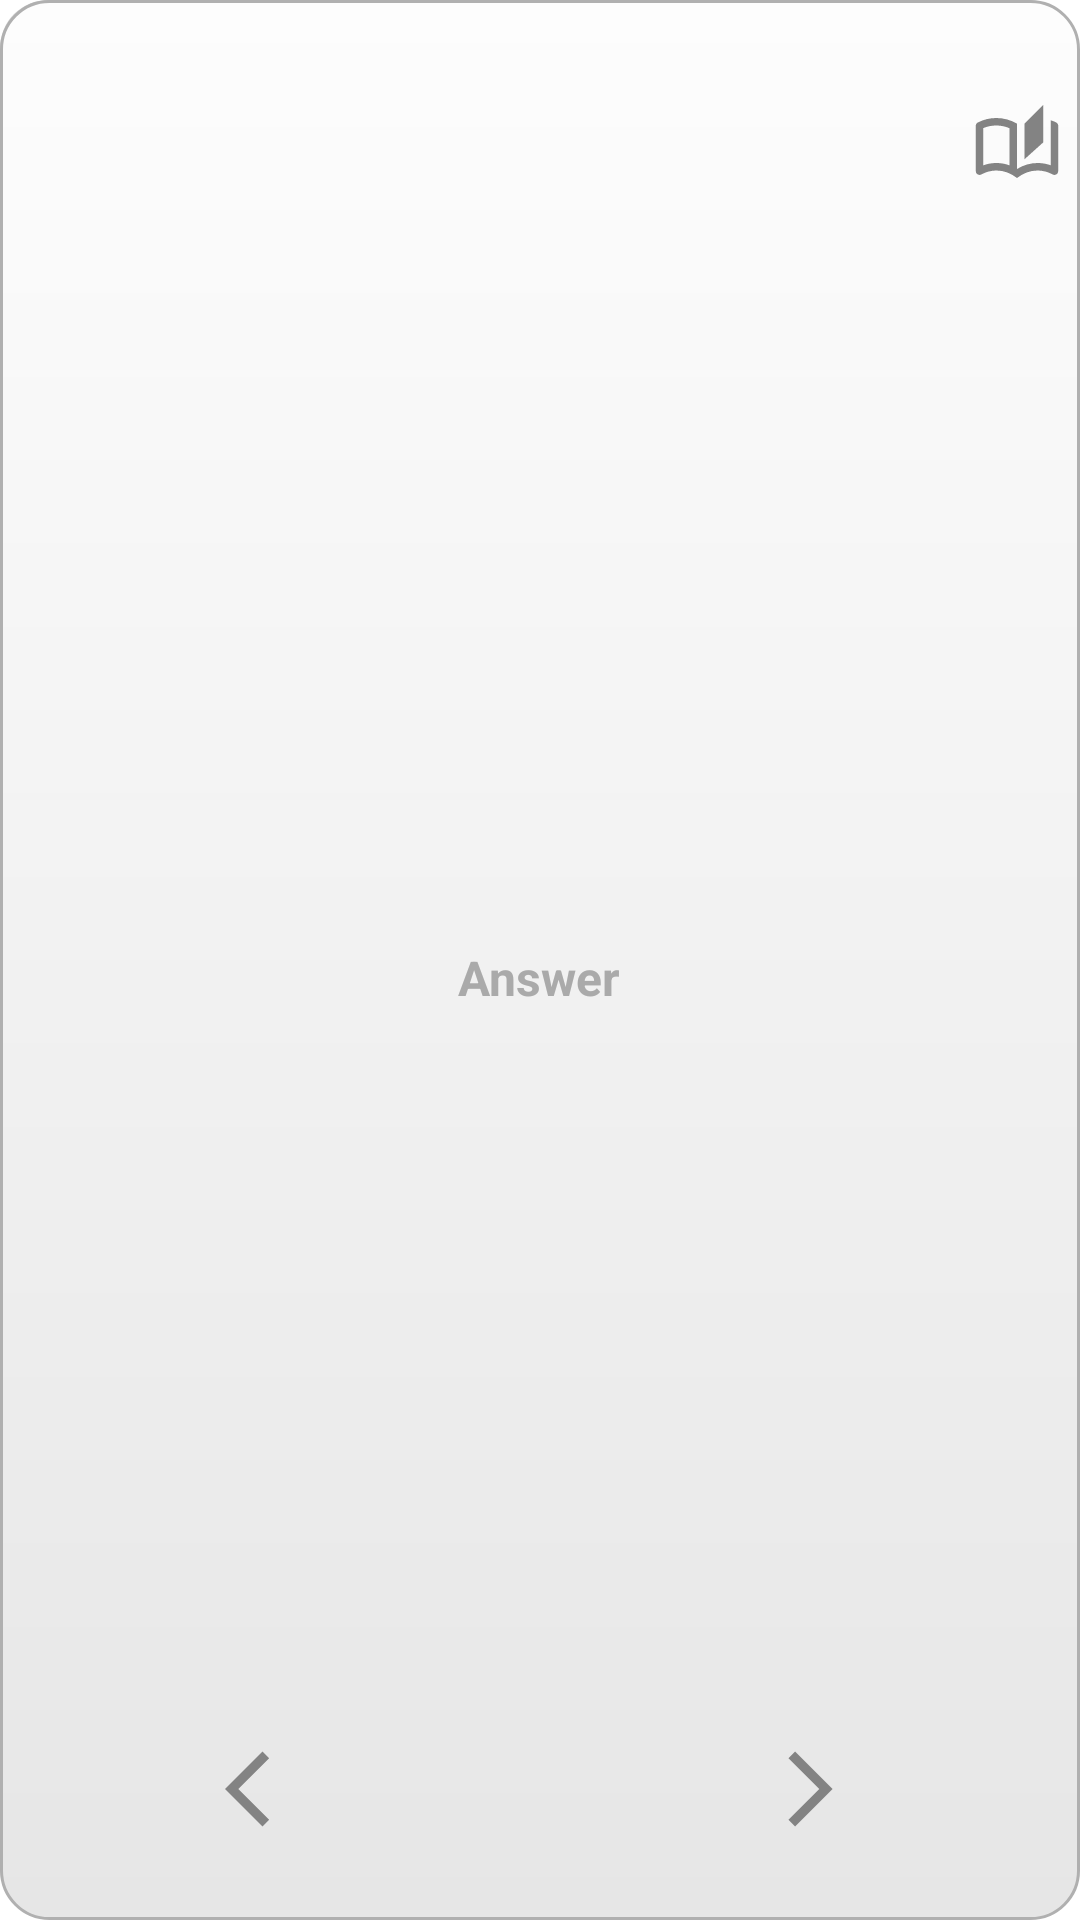

Where icons sit on this 1080w x 1920h app screen, as (x1, y1, x2, y2):
next: (788, 1752, 832, 1826)
prev: (225, 1751, 269, 1827)
